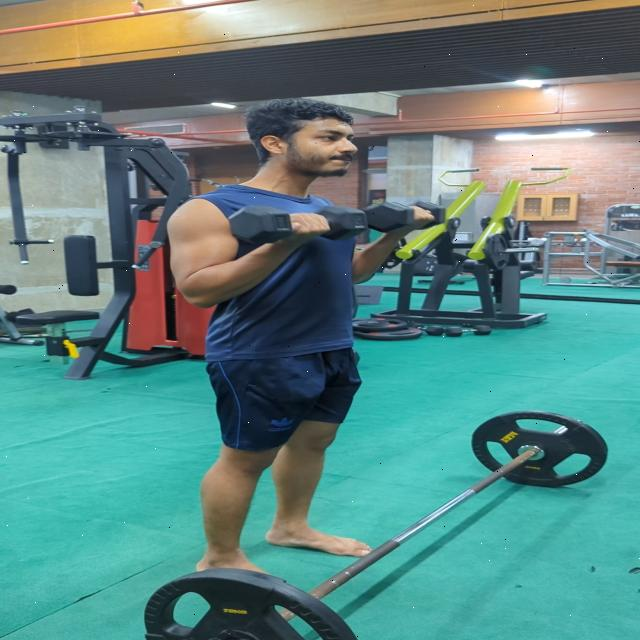Normal_DumbbellBicepCurls: (164, 95, 446, 586)
